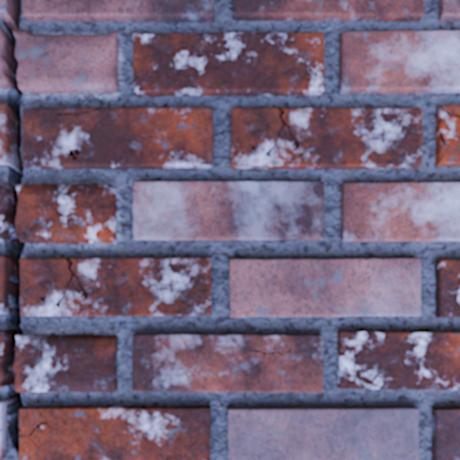brick: (133, 33, 323, 95), (22, 107, 212, 168), (230, 108, 421, 168), (230, 259, 420, 316), (133, 182, 322, 239), (133, 334, 322, 391), (21, 258, 210, 315), (20, 406, 209, 459), (228, 407, 418, 459), (339, 31, 459, 93), (341, 182, 459, 241), (338, 332, 459, 388), (23, 0, 213, 21), (233, 0, 423, 20), (432, 408, 459, 459), (435, 260, 459, 316), (436, 108, 459, 165), (0, 104, 10, 163), (439, 0, 459, 20), (0, 257, 7, 312), (0, 401, 5, 458), (0, 0, 9, 17), (444, 106, 459, 113)
broken_brick: (15, 29, 118, 94), (16, 183, 116, 243), (14, 334, 117, 392), (0, 31, 8, 89), (0, 181, 5, 229), (0, 329, 5, 360)
crack: (0, 0, 55, 459), (265, 107, 300, 158), (55, 257, 89, 309), (57, 107, 100, 116), (440, 105, 459, 118)
